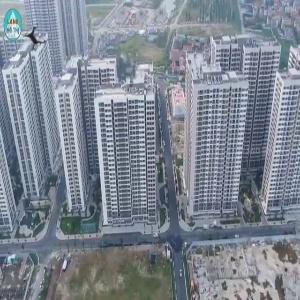drone: (11, 13, 62, 64)
